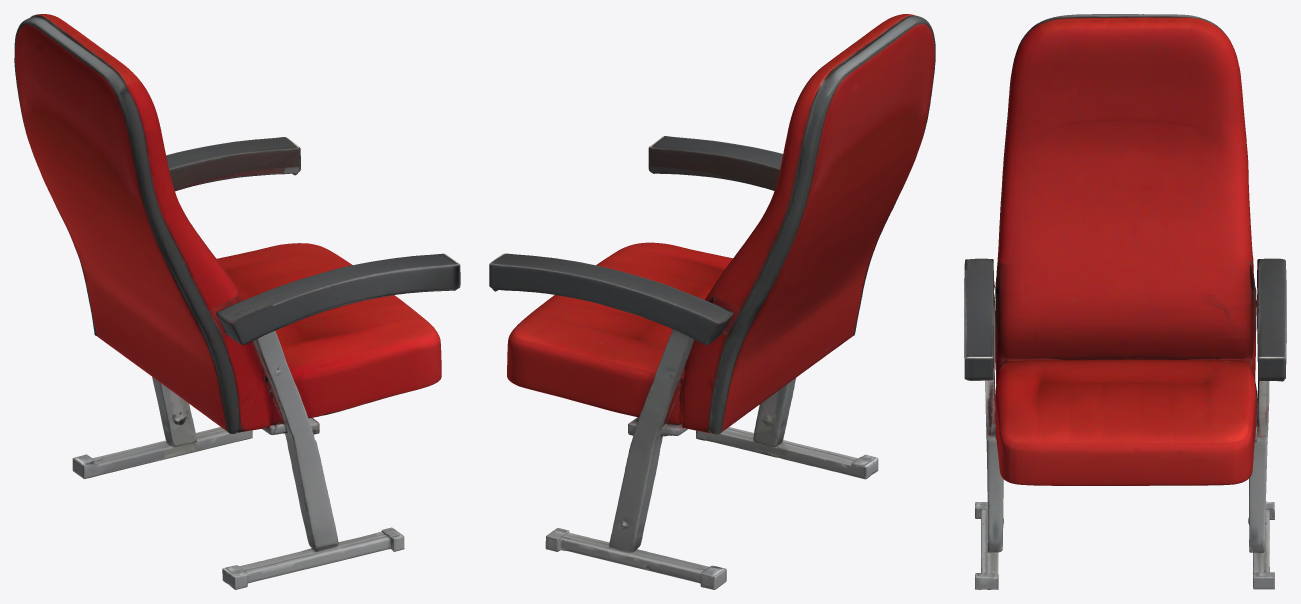
The model's file is cinema_chair_simple__0410212306_texture.glb.
The picture shows the model from 3 angles, left to right: view 1: azimuth 30°, elevation 25°; view 2: azimuth 150°, elevation 25°; view 3: azimuth 270°, elevation 25°; orthographic projection. The views are drawn at different scales.
Bounding box in the file's own units: 1.33 × 2 × 1.26.
Materials: 1 (1 with a texture image).
